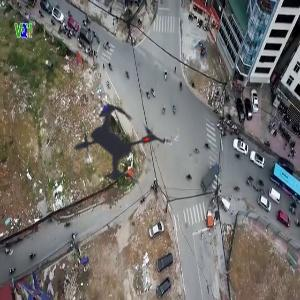drone: (24, 57, 206, 239)
